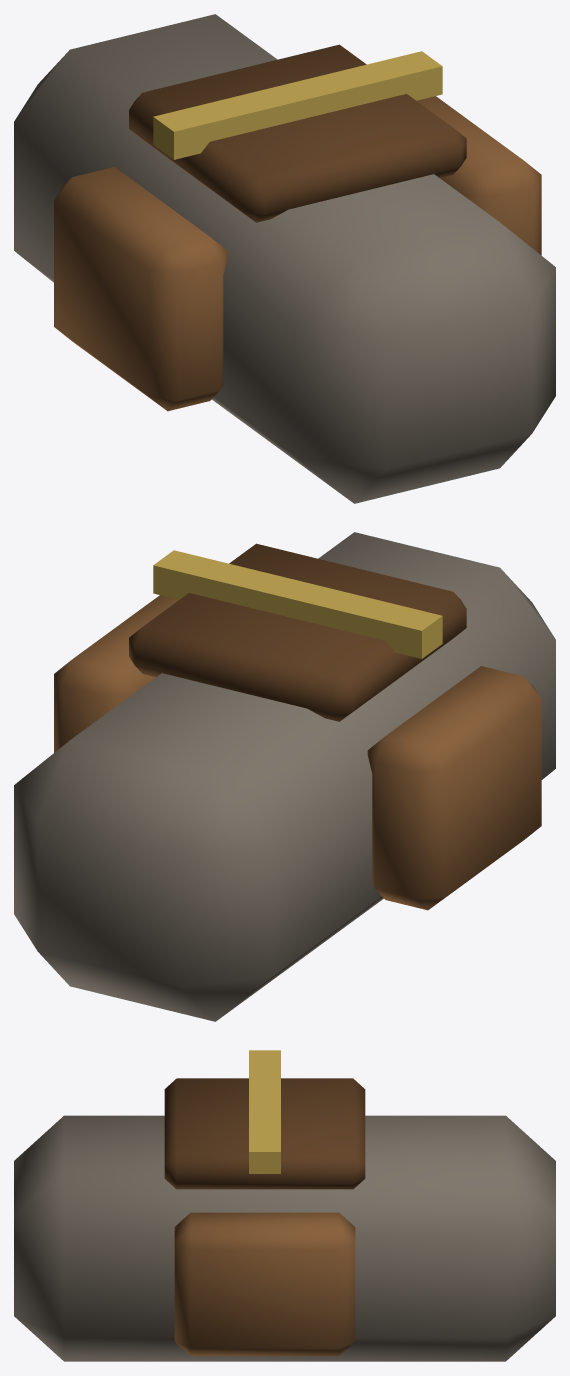
File: ppl_donkey_body.glb
3 views of the same model, one above another, from view 1: azimuth 30°, elevation 25°; view 2: azimuth 150°, elevation 25°; view 3: azimuth 270°, elevation 25° (orthographic). The views are drawn at different scales.
Visible parts, largest first — view 1: ppl_donkey_body; view 2: ppl_donkey_body; view 3: ppl_donkey_body.
Boxes of the visible parts, x1,y1,x2,y2 form: ppl_donkey_body: [14, 14, 555, 503]; ppl_donkey_body: [14, 532, 555, 1021]; ppl_donkey_body: [14, 1050, 555, 1361].
Size of the model in its own units: 0.175 by 0.128 by 0.27.
